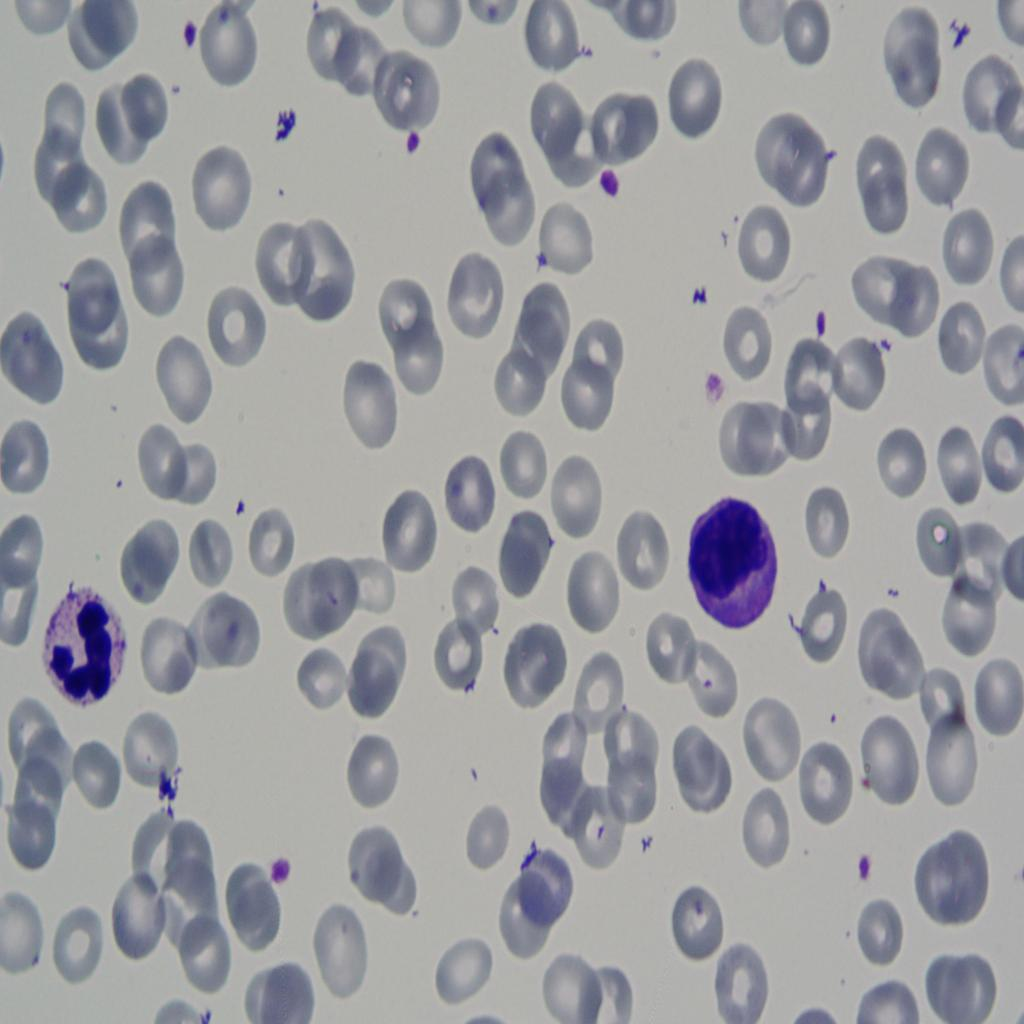Myeoblast: (682, 489, 774, 635)
Neutrofil: (39, 578, 122, 712)
Platelet: (841, 831, 888, 900), (597, 151, 625, 226), (799, 295, 833, 355), (702, 365, 736, 423), (394, 117, 437, 159), (181, 15, 202, 55), (689, 276, 711, 308)
